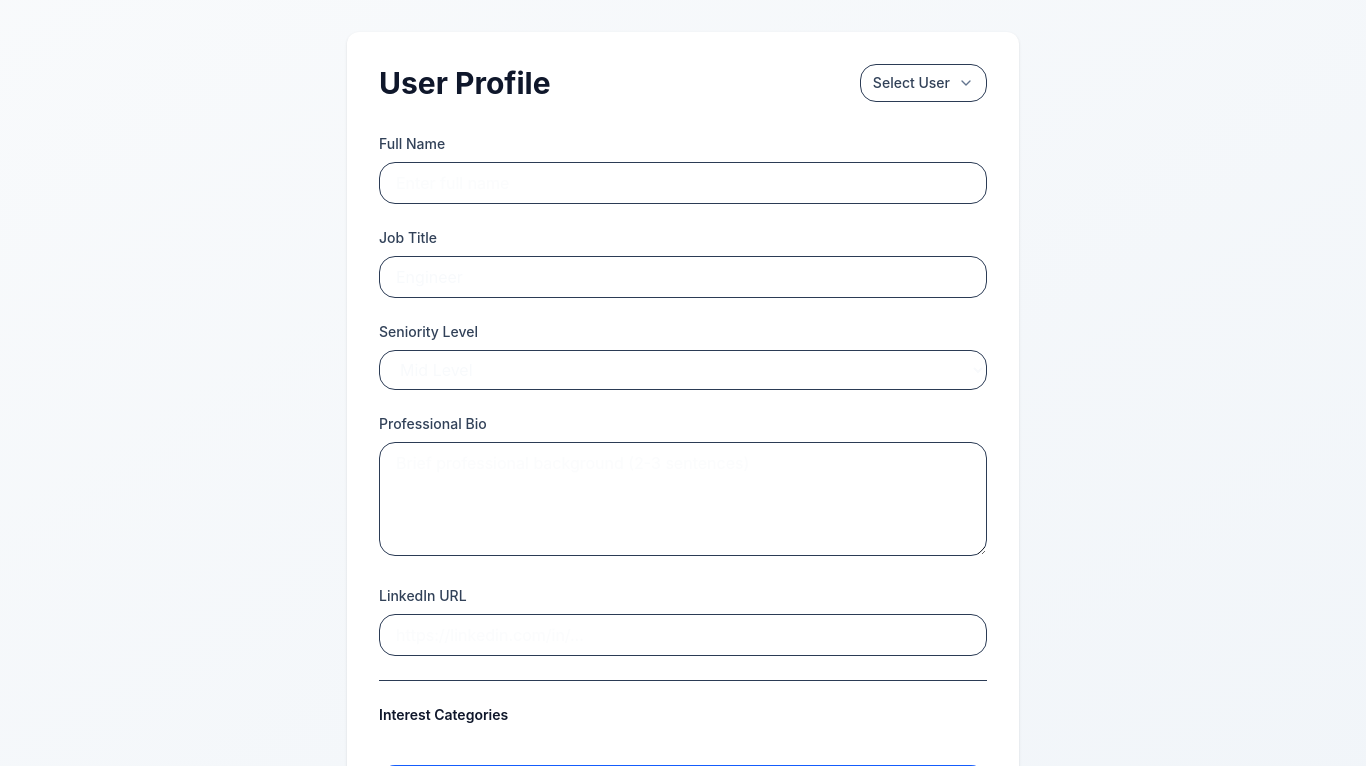
Test: User Profile Page › saves profile updates and shows success message
Replace the text in the field with placeholder "e.g., Senior Machine Learning Engineer" with "Principal Engineer": (683, 277) top-left (379, 256), bottom-right (987, 298)
(page scrolled)
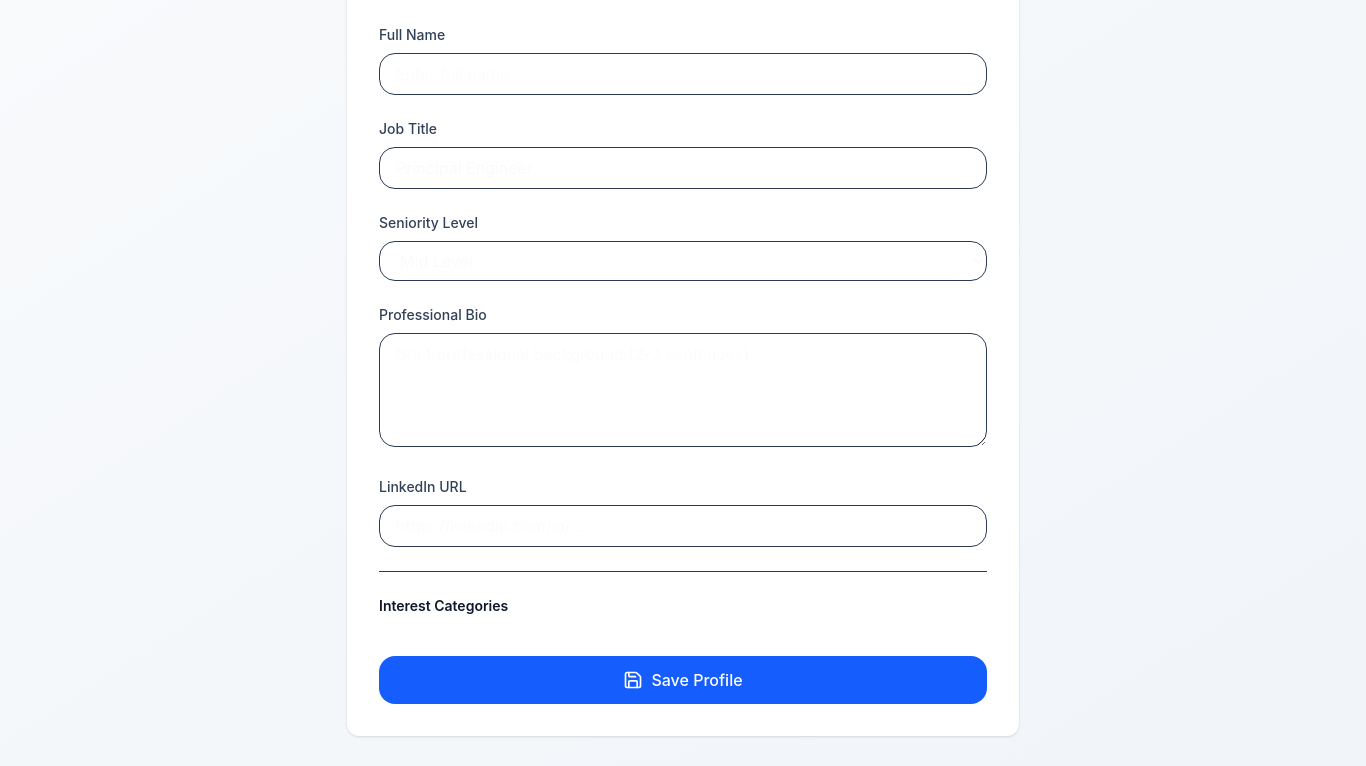
Click the button "Save Profile": (683, 680) top-left (379, 656), bottom-right (987, 704)
(page scrolled)
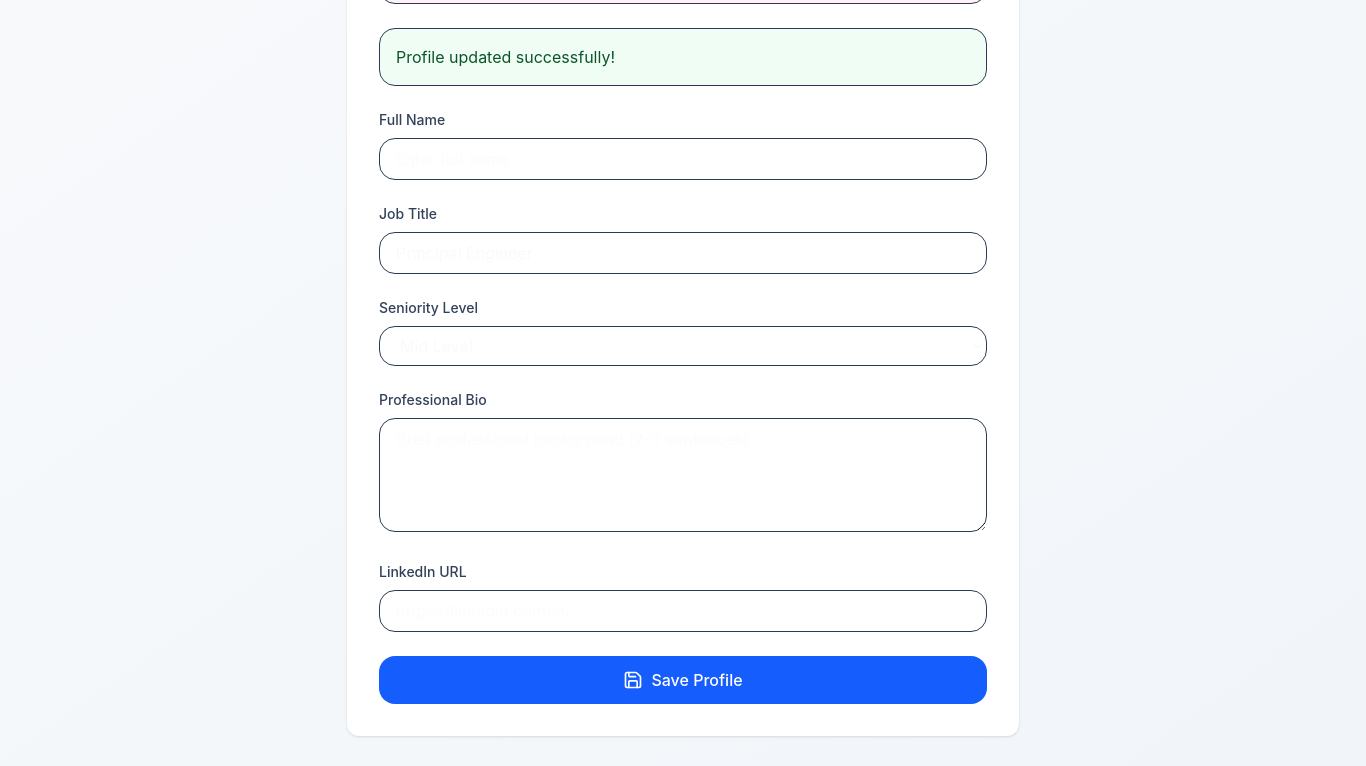
expect the text "Profile updated successfully!" is shown: met, box top-left (396, 47), bottom-right (615, 67)
